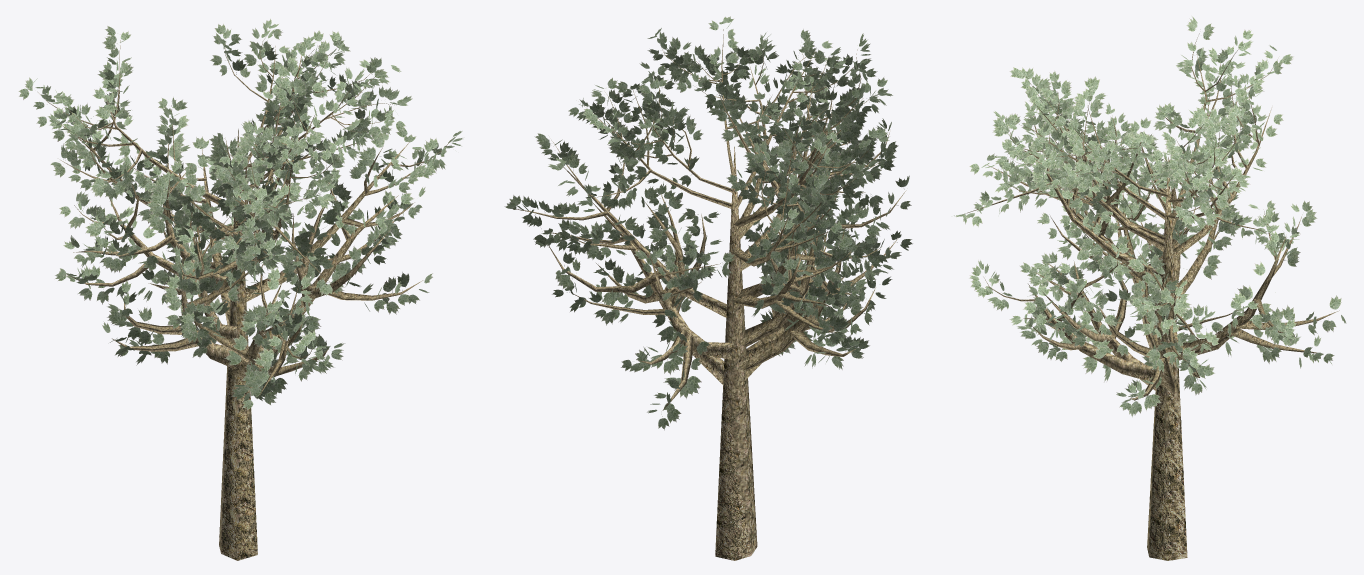
Rendered from MapleTree4.obj.
The picture shows the model from 3 angles, left to right: view 1: azimuth 30°, elevation 25°; view 2: azimuth 150°, elevation 25°; view 3: azimuth 270°, elevation 25°; orthographic projection. The views are drawn at different scales.
Visible parts, largest first — view 1: trunk; view 2: trunk; view 3: trunk.
Part boxes in pixels (box(x1,y1,x2,y2)): trunk: box(18, 18, 462, 560); trunk: box(504, 16, 912, 560); trunk: box(954, 15, 1346, 560).
Bounding box in the file's own units: 24.28 × 30.22 × 22.81.
2 materials, 2 textured.
